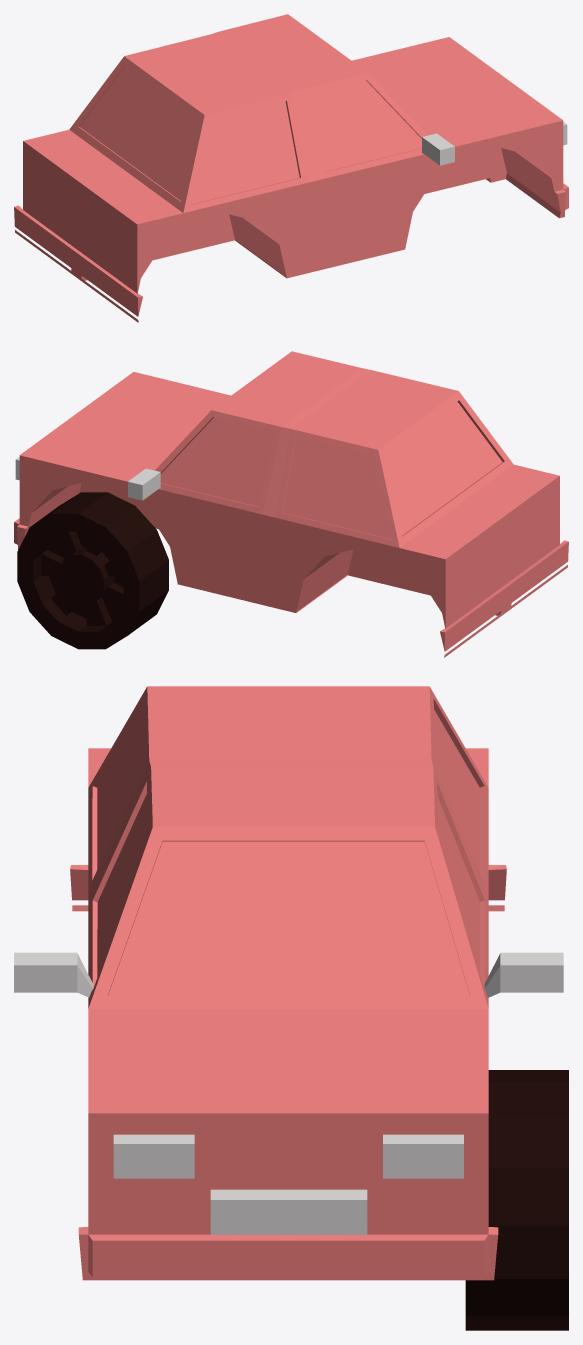
File: sedan.glb
3 renders of one model, top to bottom at view 1: azimuth 30°, elevation 25°; view 2: azimuth 150°, elevation 25°; view 3: azimuth 270°, elevation 25°, orthographic. The views are drawn at different scales.
Visible parts, largest first — view 1: bodyPainted, trim.001; view 2: bodyPainted, tyre, trim.001; view 3: bodyPainted, tyre, trim, trim.002, trim.001.
Boxes of the visible parts, box(x1,y1,x2,y2) form: bodyPainted: box(14, 14, 568, 322); trim.001: box(422, 133, 454, 165); bodyPainted: box(14, 351, 568, 657); tyre: box(17, 492, 168, 649); trim.001: box(128, 468, 160, 500); bodyPainted: box(70, 686, 506, 1280); tyre: box(465, 1070, 568, 1330); trim: box(113, 1134, 463, 1178); trim.002: box(210, 1189, 367, 1234); trim.001: box(14, 952, 563, 997).
Bounding box in the file's own units: 2.94 × 1.49 × 1.82.
